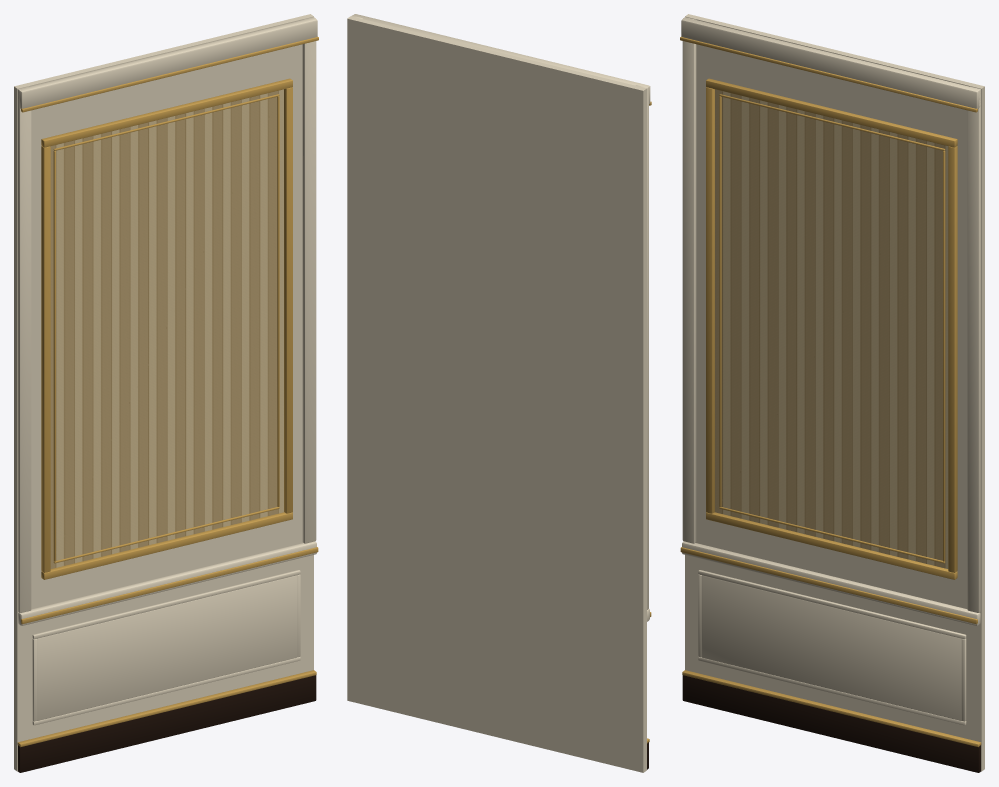
The model's file is wall_ballroom.glb.
3 renders of one model, left to right at view 1: azimuth 30°, elevation 25°; view 2: azimuth 150°, elevation 25°; view 3: azimuth 330°, elevation 25°, orthographic.
Visible parts, largest first — view 1: wall_ballroom; view 2: wall_ballroom; view 3: wall_ballroom.
Part boxes in pixels (x1,y1,x2,y2): wall_ballroom: (14,14,318,772); wall_ballroom: (347,14,651,772); wall_ballroom: (680,14,984,772).
Bounding box in the file's own units: 2 × 4.4 × 0.1.
4 materials, 1 textured.
